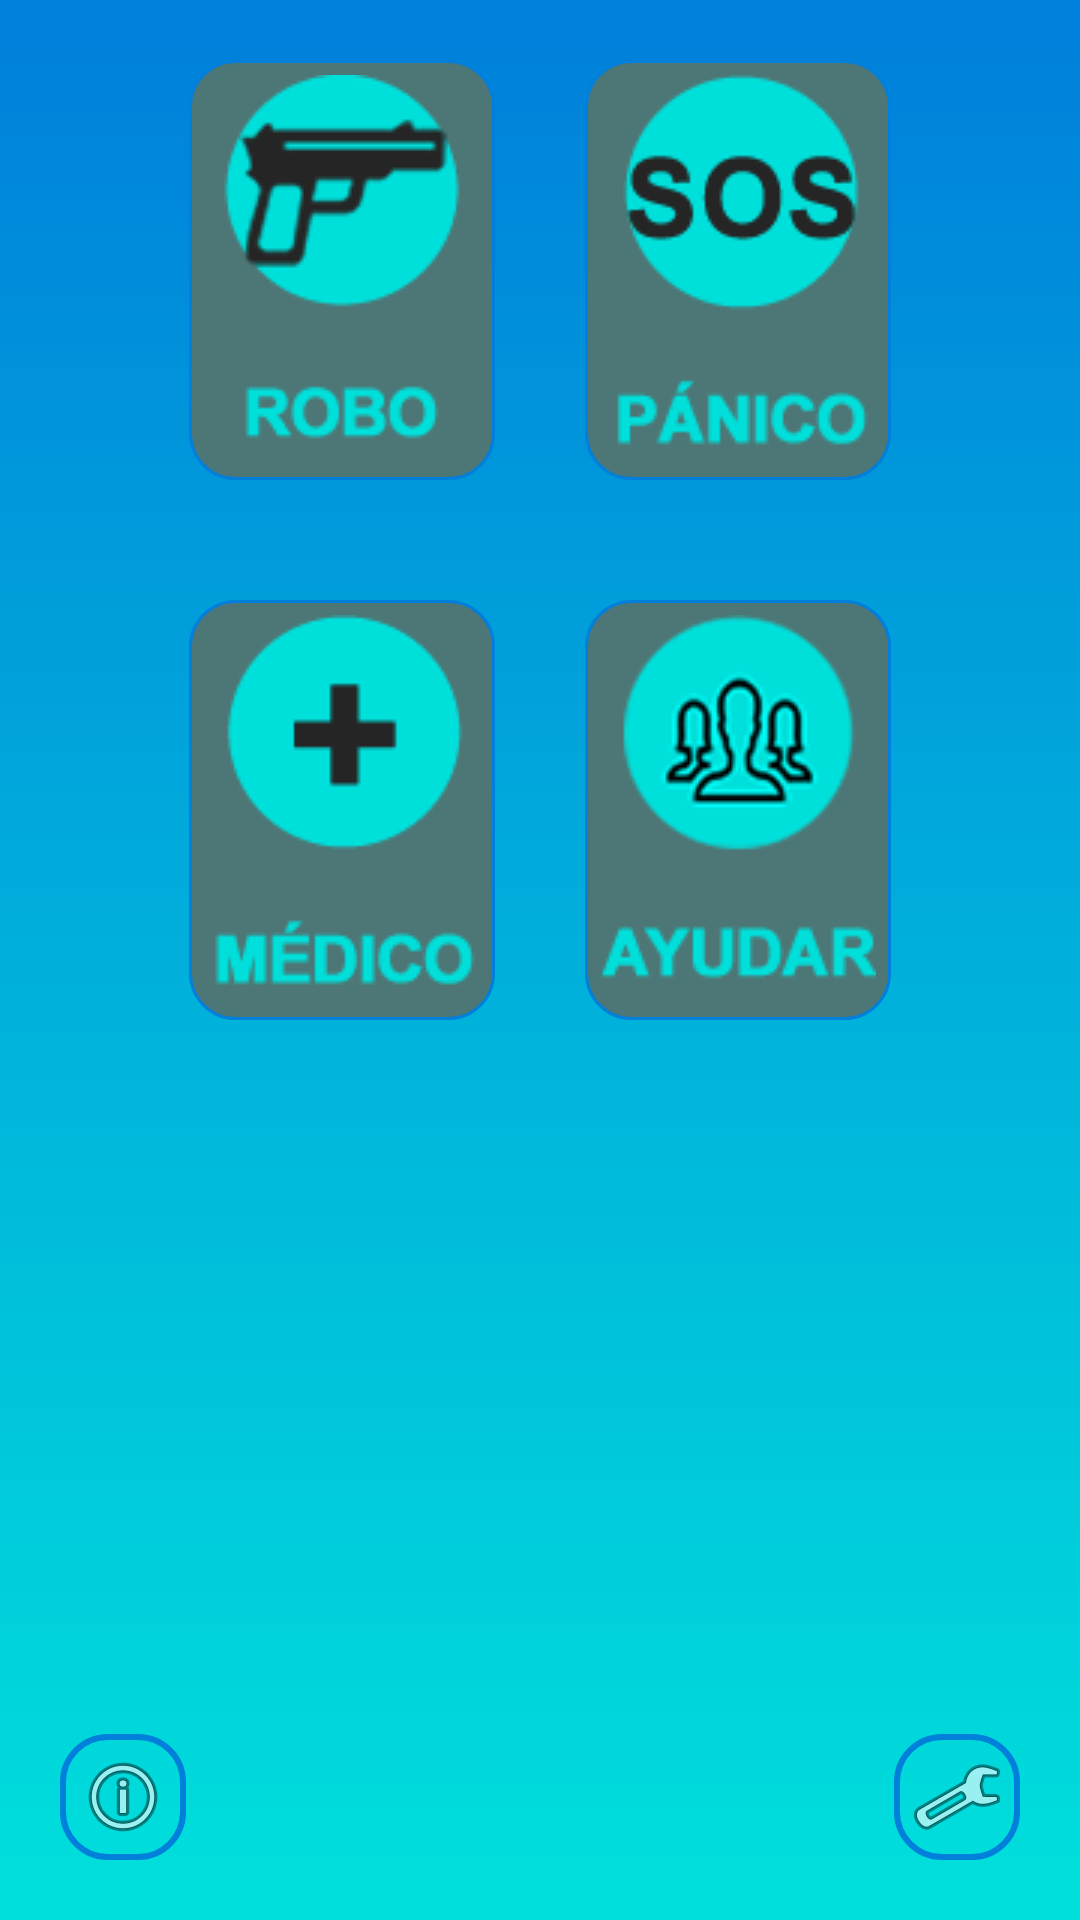

Where icons sit on this 1080w x 1920h app screen, as (x1, y1, x2, y2):
info details: (60, 1734, 186, 1860)
preferences: (894, 1734, 1020, 1860)
